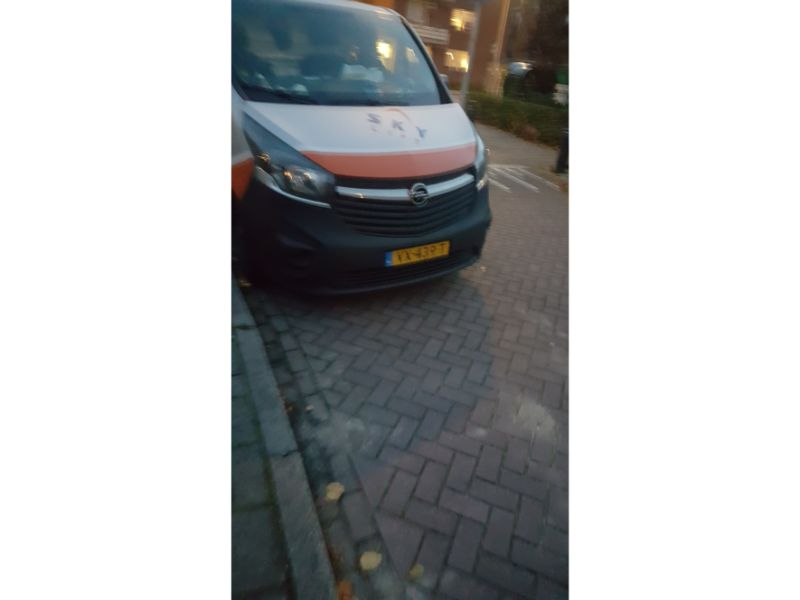kenteken: (383, 240, 452, 270)
